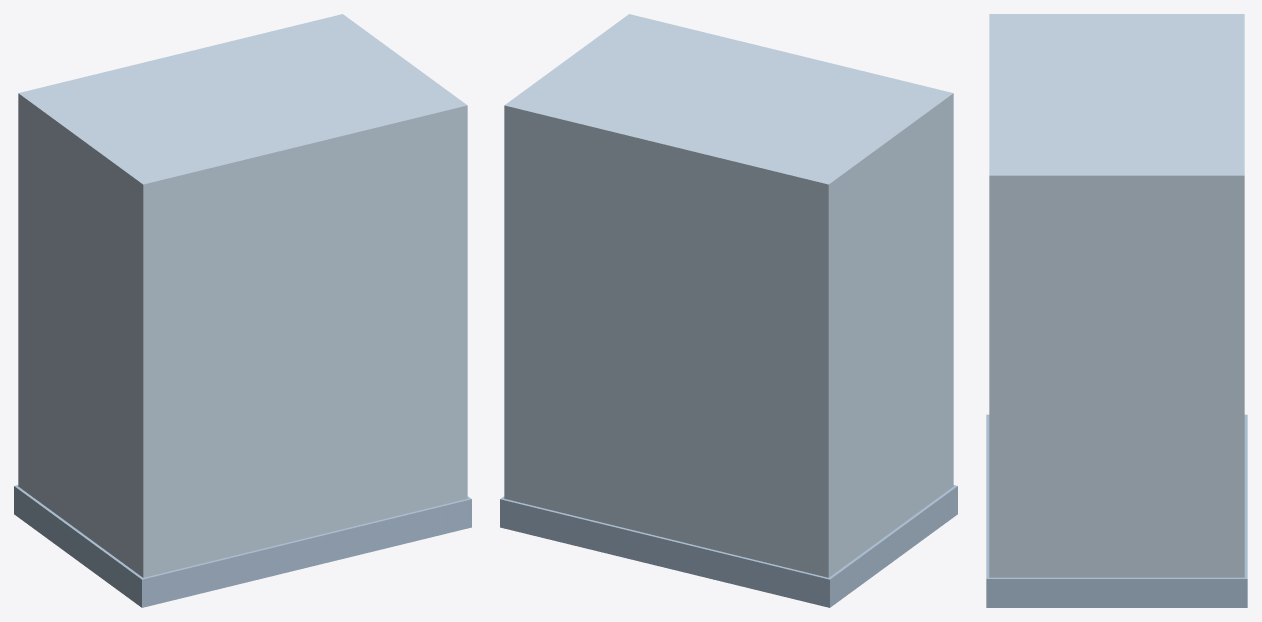
File: roupao_saia.glb
3 renders of one model, left to right at view 1: azimuth 30°, elevation 25°; view 2: azimuth 150°, elevation 25°; view 3: azimuth 270°, elevation 25°, orthographic. The views are drawn at different scales.
Parts seen in each view (by area): view 1: roupao_saia; view 2: roupao_saia; view 3: roupao_saia.
Boxes of the visible parts, x1,y1,x2,y2 form: roupao_saia: (14,14,471,607); roupao_saia: (500,14,957,607); roupao_saia: (986,14,1247,607).
Size of the model in its own units: 0.61 by 0.745 by 0.41.
